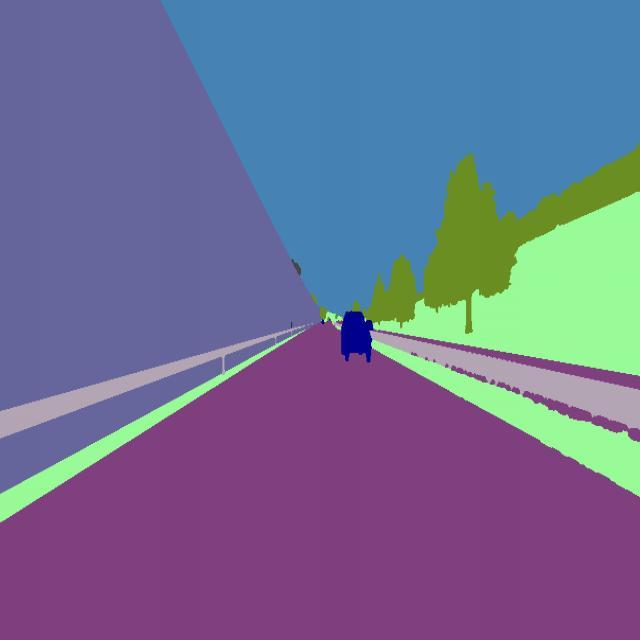safe: (336, 306, 378, 371), (363, 316, 378, 335)
